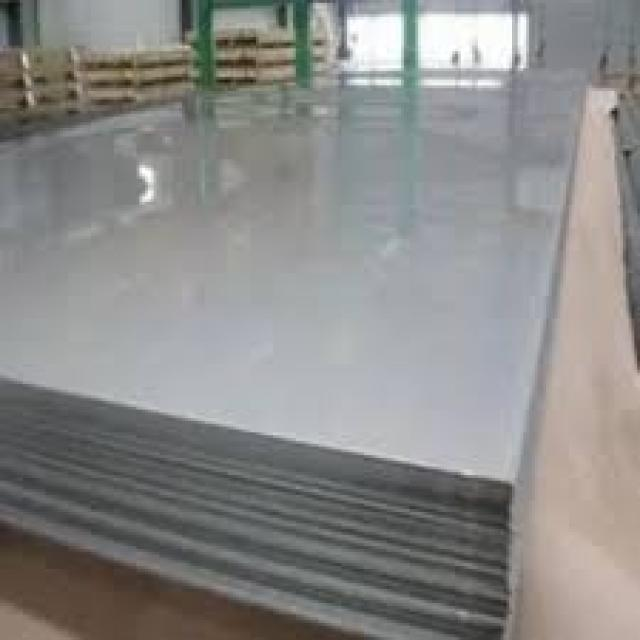Dry Waste: (0, 68, 586, 529)
